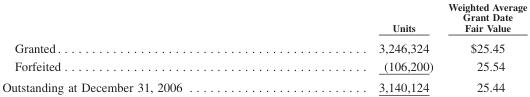table: (1, 0, 526, 93)
table column: (1, 0, 279, 93), (279, 0, 440, 93), (440, 0, 526, 93)
table column header: (1, 0, 526, 36)
table row: (1, 0, 526, 36), (1, 36, 526, 56), (1, 56, 526, 76), (1, 76, 526, 93)
